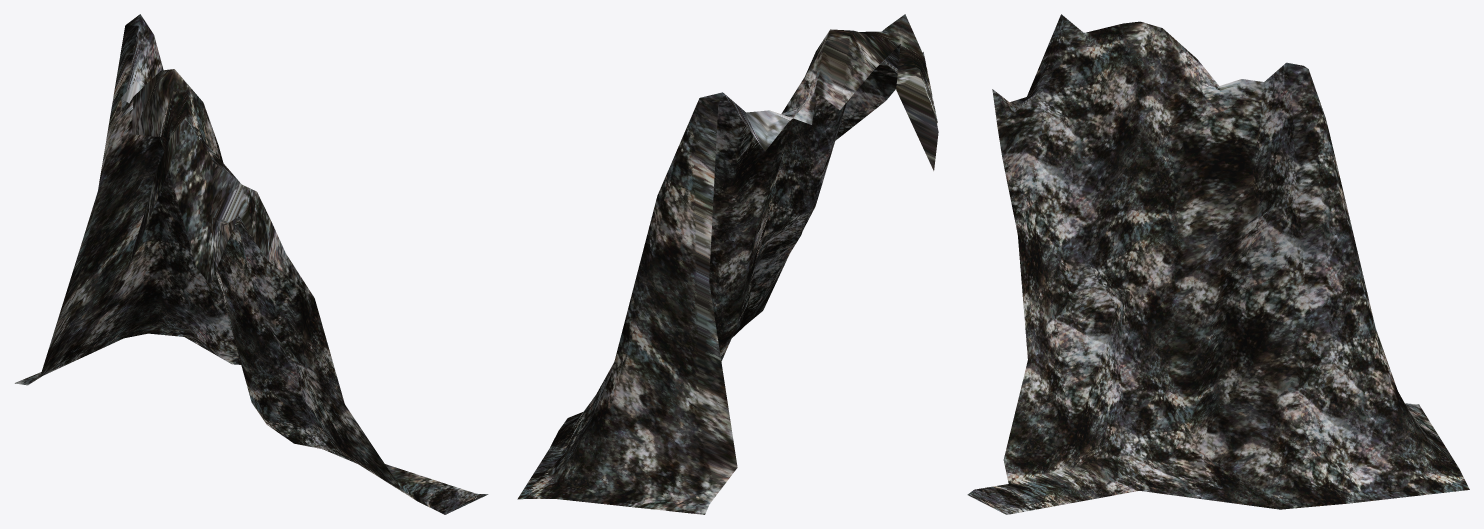
The model's file is OVERHILL_A_01_MOUN1_OBJECT154.fbx.
3 views of the same model, side by side, from view 1: azimuth 30°, elevation 25°; view 2: azimuth 150°, elevation 25°; view 3: azimuth 270°, elevation 25° (orthographic). The views are drawn at different scales.
Parts seen in each view (by area): view 1: OVERHILL_A_01_MOUN1_OBJECT154; view 2: OVERHILL_A_01_MOUN1_OBJECT154; view 3: OVERHILL_A_01_MOUN1_OBJECT154.
Boxes of the visible parts, x1,y1,x2,y2 form: OVERHILL_A_01_MOUN1_OBJECT154: (15,14,488,514); OVERHILL_A_01_MOUN1_OBJECT154: (517,14,938,514); OVERHILL_A_01_MOUN1_OBJECT154: (967,14,1469,514).
Size of the model in its own units: 227936 by 302177 by 351277.
Materials: 1 (1 with a texture image).
